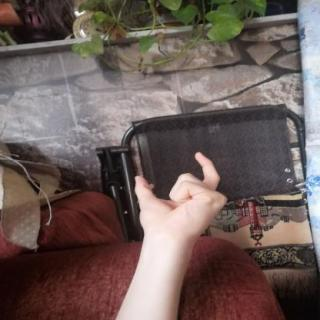NOON: (125, 145, 240, 249)
